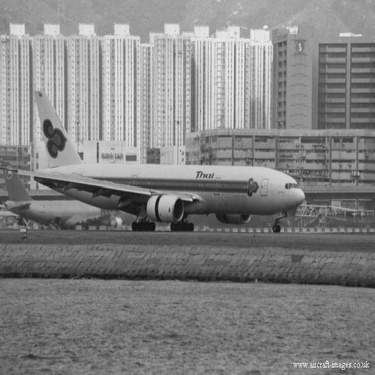airplane: (16, 78, 330, 252), (1, 144, 147, 236)
